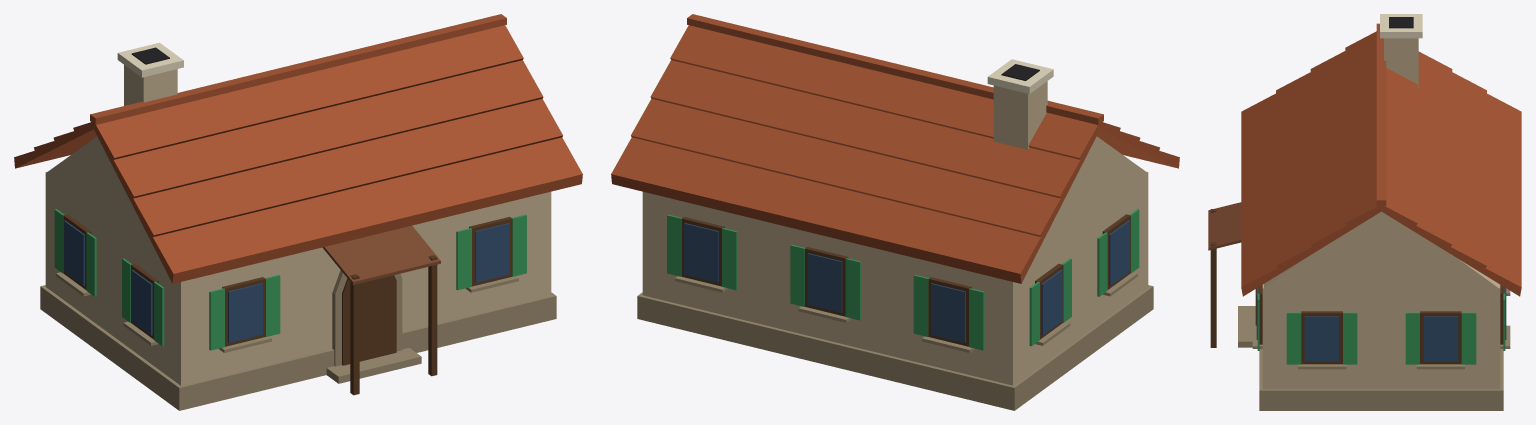
Rendered from House_02_LongCottage.fbx.
3 renders of one model, left to right at view 1: azimuth 30°, elevation 25°; view 2: azimuth 150°, elevation 25°; view 3: azimuth 270°, elevation 25°, orthographic. The views are drawn at different scales.
Parts seen in each view (by area): view 1: House_02_LongCottage; view 2: House_02_LongCottage; view 3: House_02_LongCottage.
Boxes of the visible parts, <box> form: House_02_LongCottage: <box>14,14,582,410</box>; House_02_LongCottage: <box>611,14,1179,410</box>; House_02_LongCottage: <box>1208,14,1521,410</box>.
Bounding box in the file's own units: 8.44 × 5.56 × 6.33.
